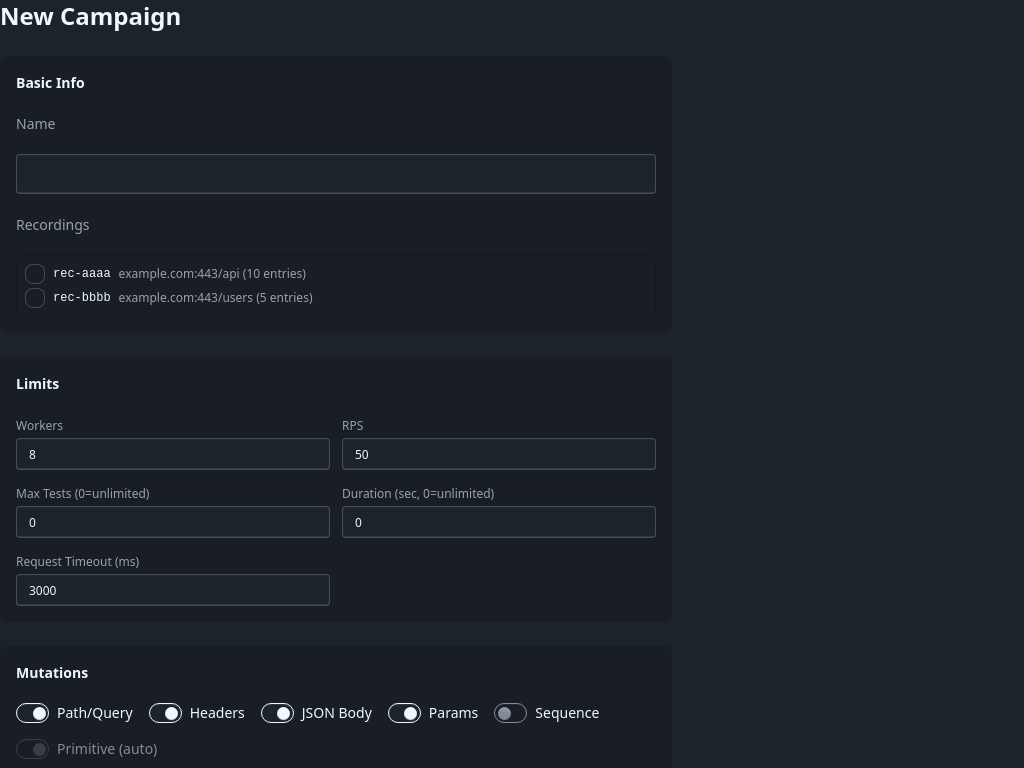
Test: CampaignCreatePage › enables submit when name is filled and a recording is selected
In the field: (336,174) 16,154 -> 656,194, type "My Campaign"
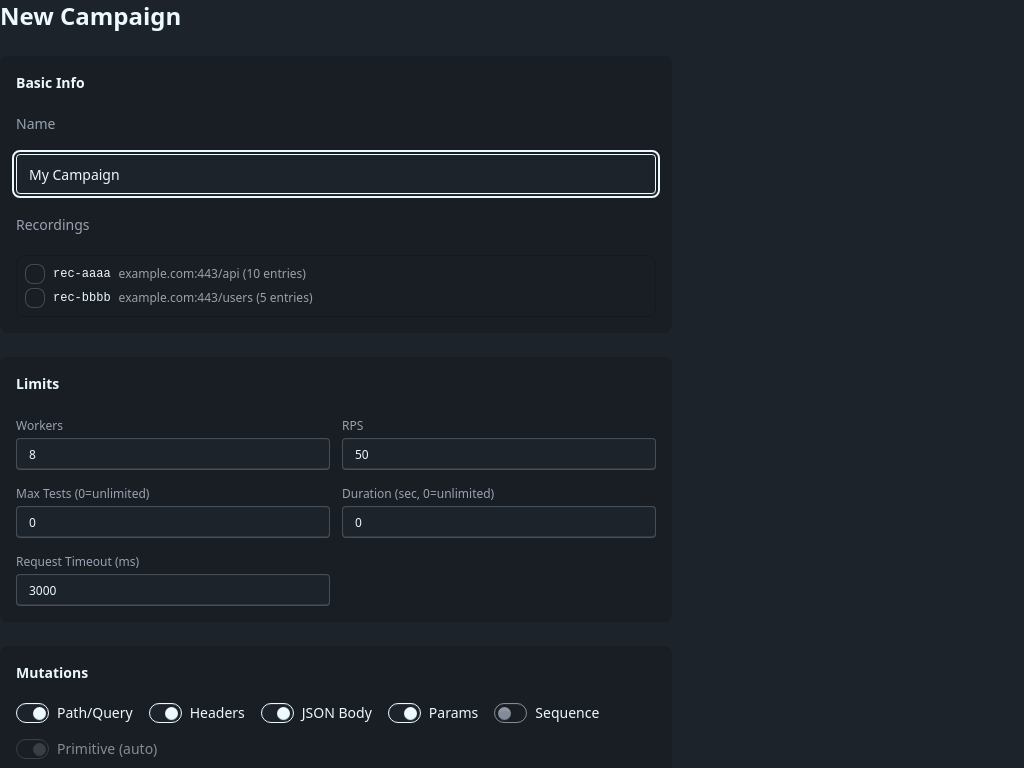
# Select the first recording checkbox
Click the checkbox labelled "rec-aaaa example.com:443/api (10 entries)": (35,274) 25,264 -> 45,284
(page scrolled)
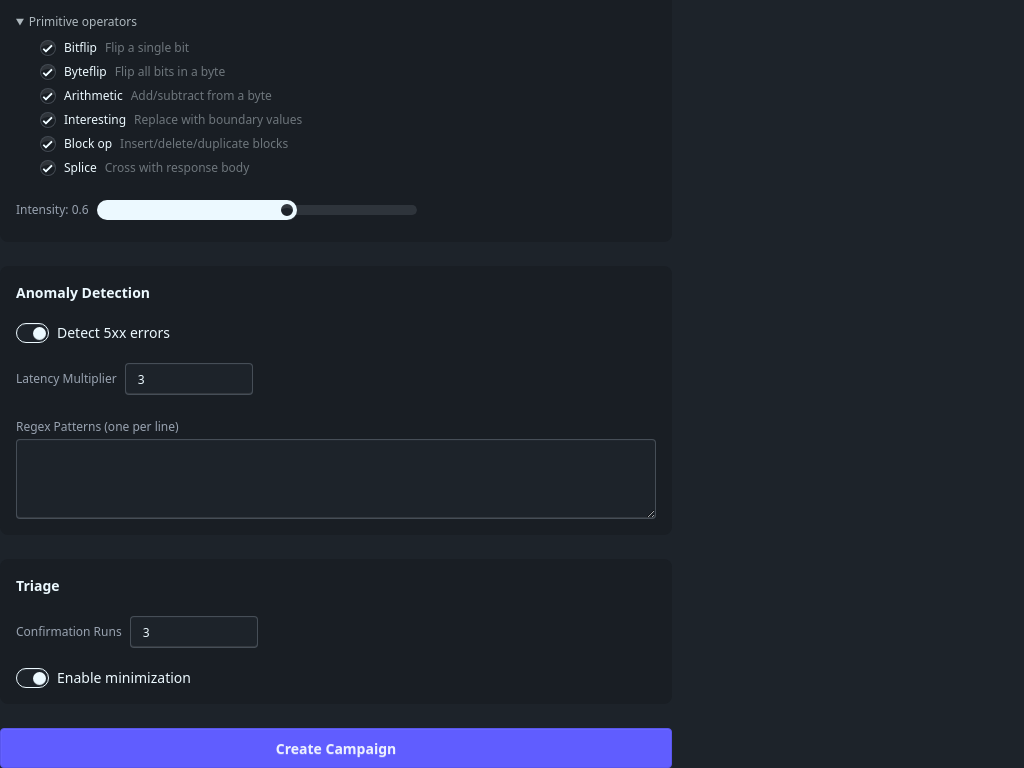
Result: the button "Create Campaign" is enabled at 0,728 -> 672,767
